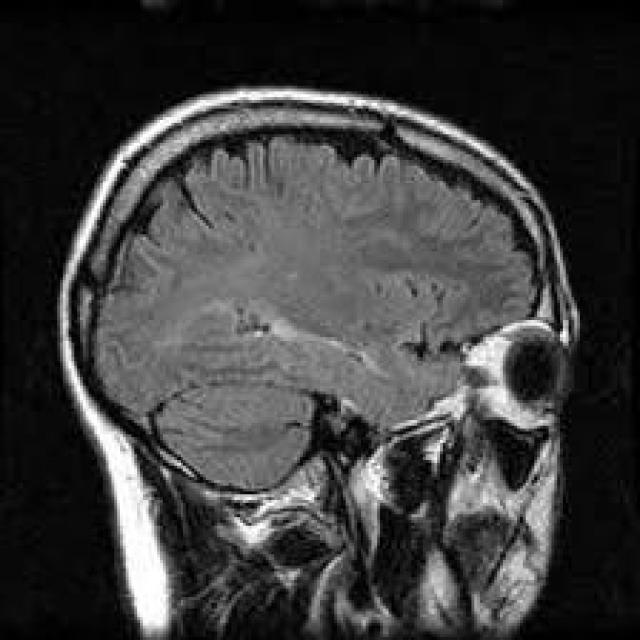no_tumor: (33, 79, 589, 640)
